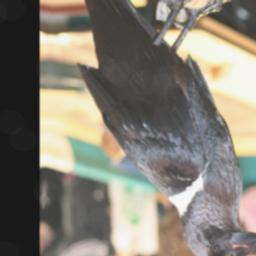Crow: (63, 0, 256, 256)
